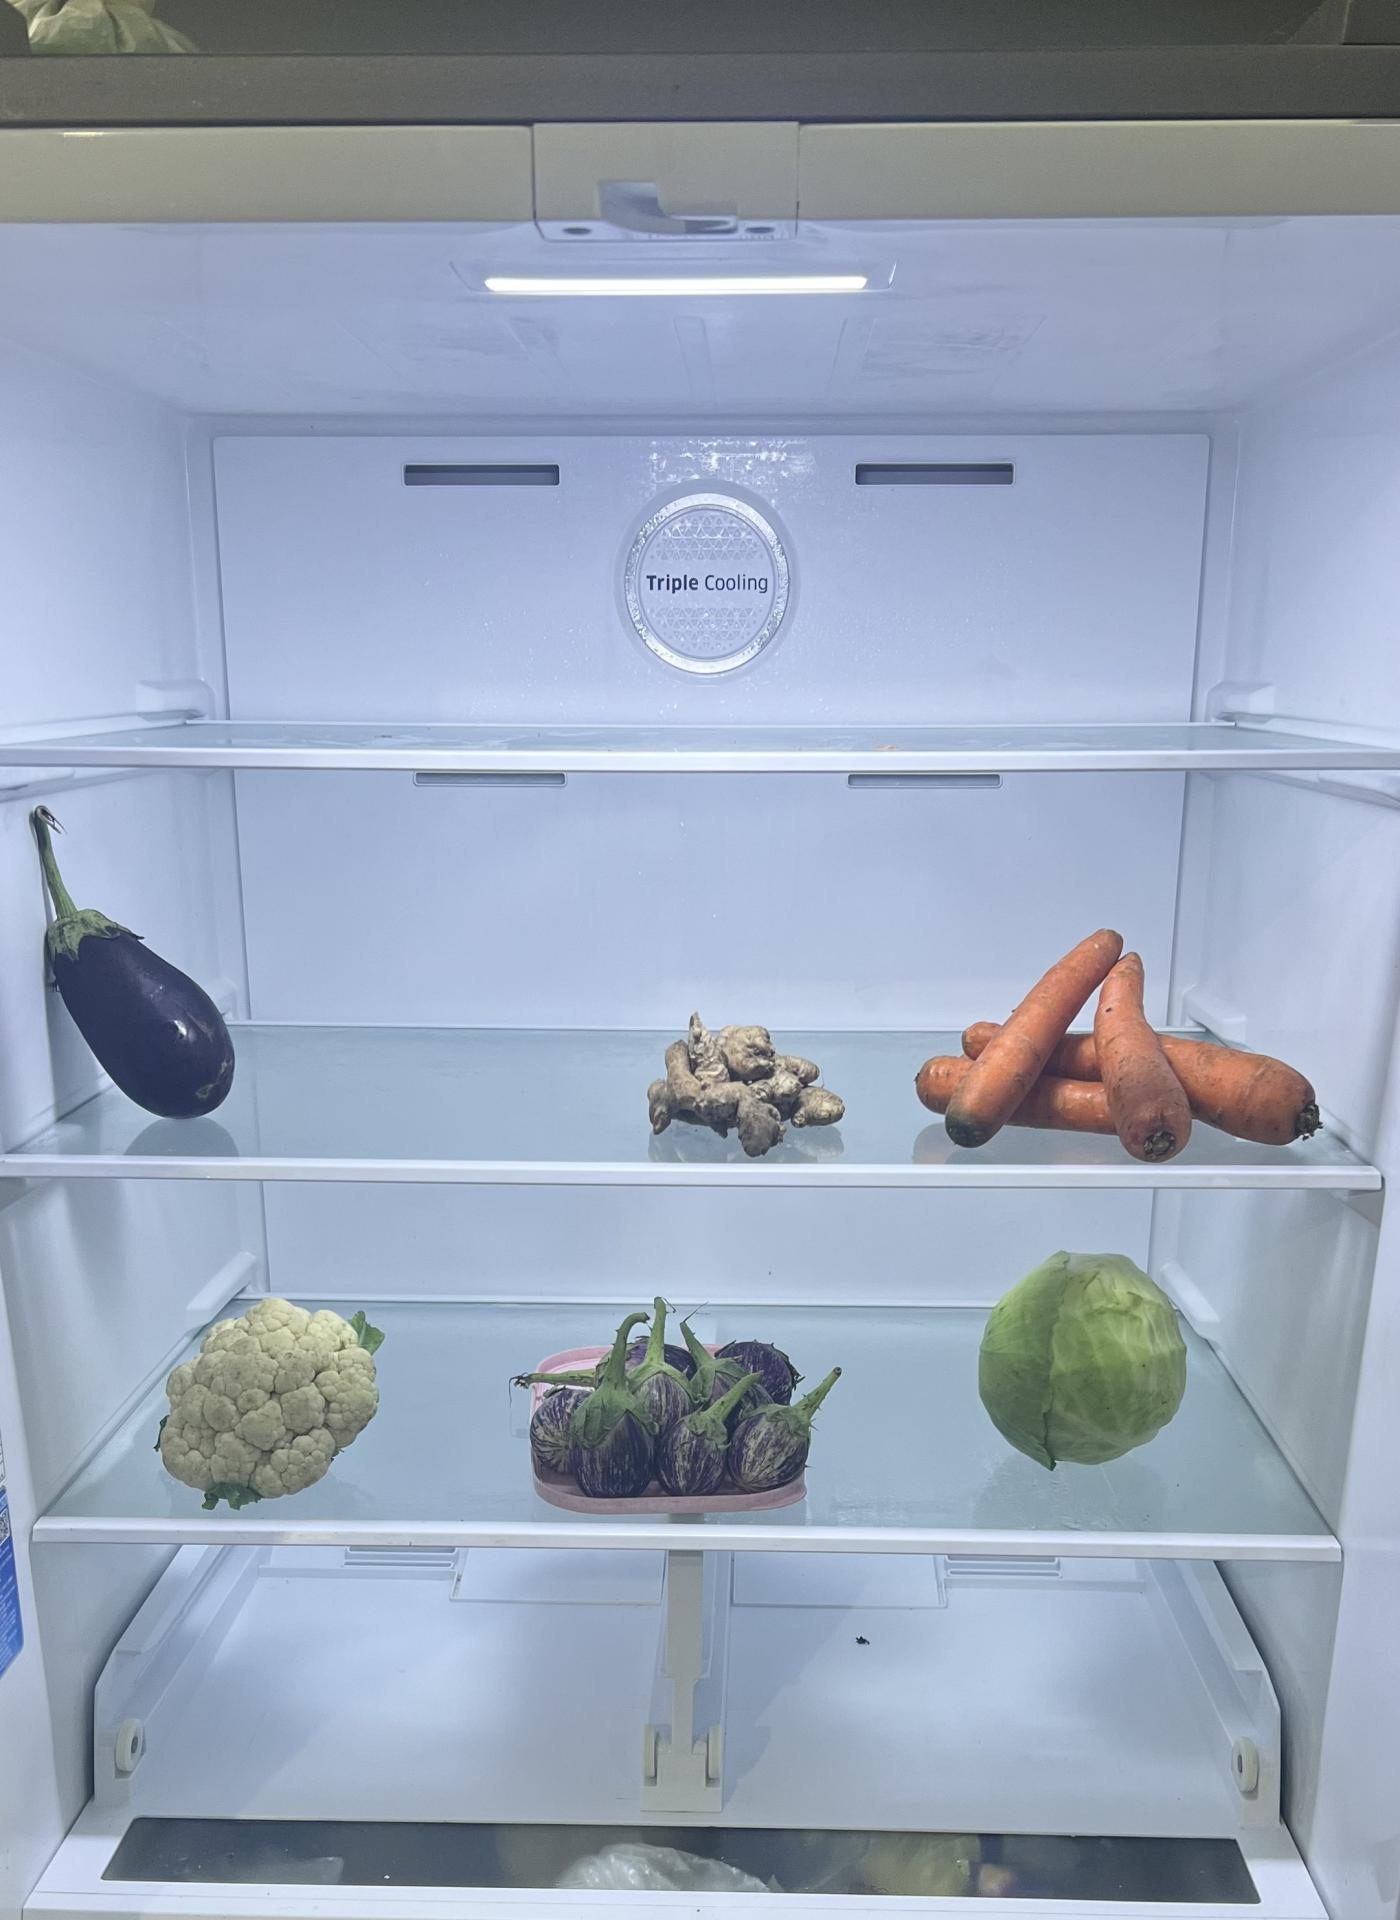brinjal: (522, 1294, 830, 1519), (27, 833, 234, 1137)
cabbage: (981, 1249, 1191, 1468)
carrots: (914, 933, 1327, 1164)
cauliflower: (163, 1301, 388, 1510)
ginger: (643, 1018, 847, 1151)
